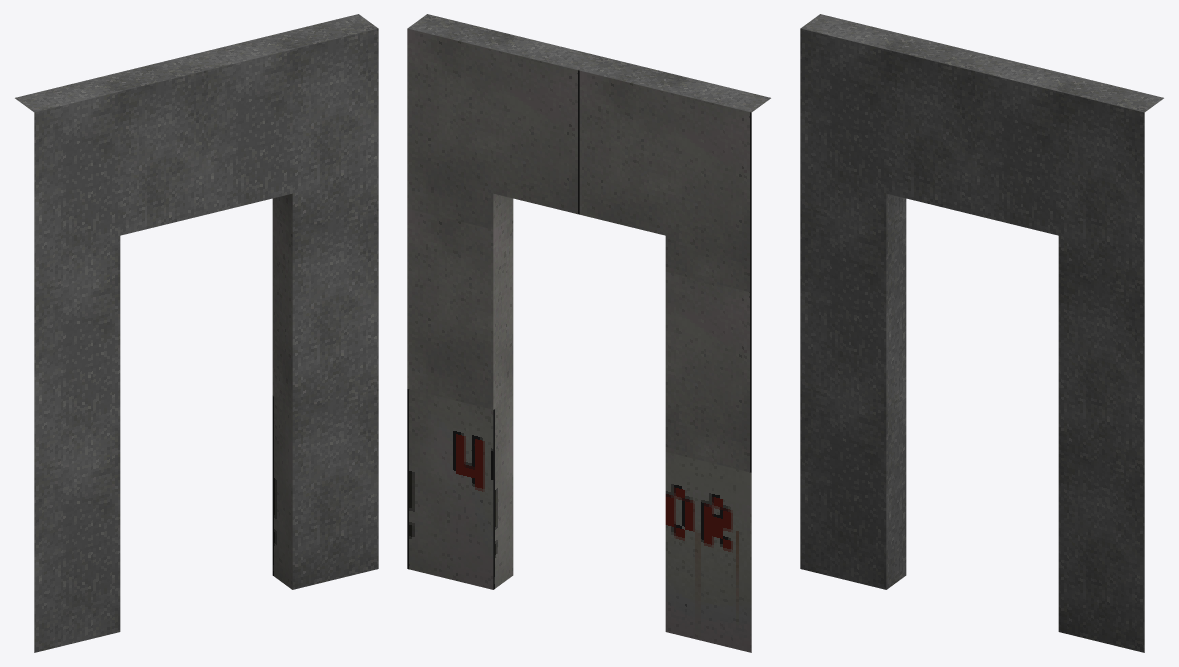
Rendered from wall_doorway_brick.glb.
The picture shows the model from 3 angles, left to right: view 1: azimuth 30°, elevation 25°; view 2: azimuth 150°, elevation 25°; view 3: azimuth 330°, elevation 25°; orthographic projection.
Visible parts, largest first — view 1: wall_doorway_brick; view 2: wall_doorway_brick; view 3: wall_doorway_brick.
Boxes of the visible parts, <box> form: wall_doorway_brick: <box>15,14,378,652</box>; wall_doorway_brick: <box>407,14,770,652</box>; wall_doorway_brick: <box>800,14,1163,652</box>.
Size of the model in its own units: 2 by 3 by 0.2.
